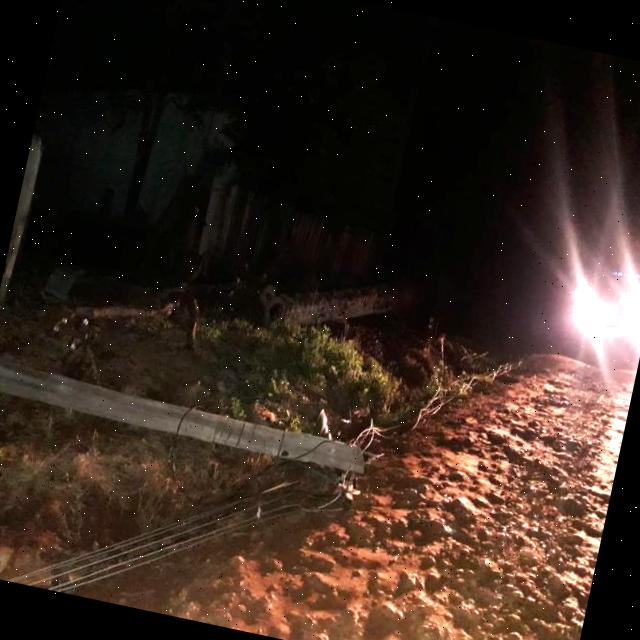Broken Pole: (0, 358, 362, 476)
